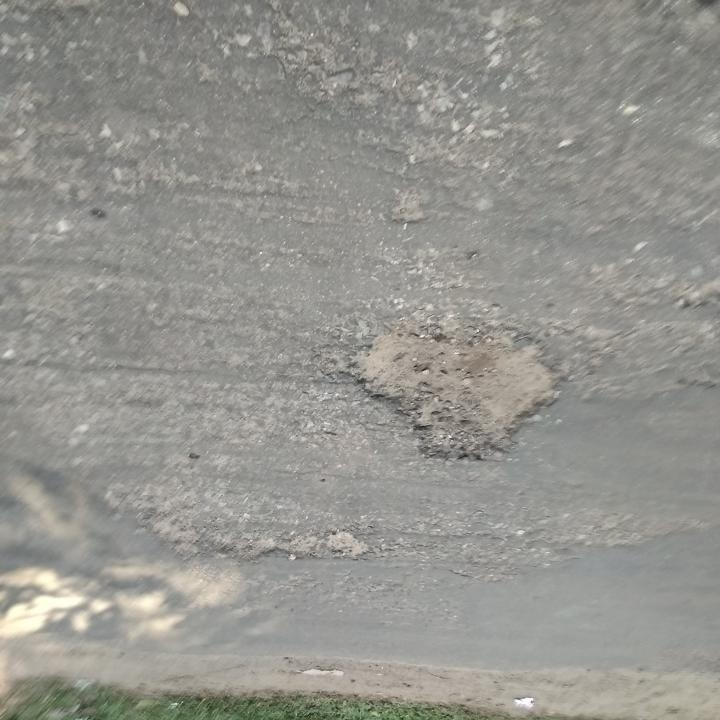pothole: (330, 315, 564, 465), (205, 529, 379, 565)
